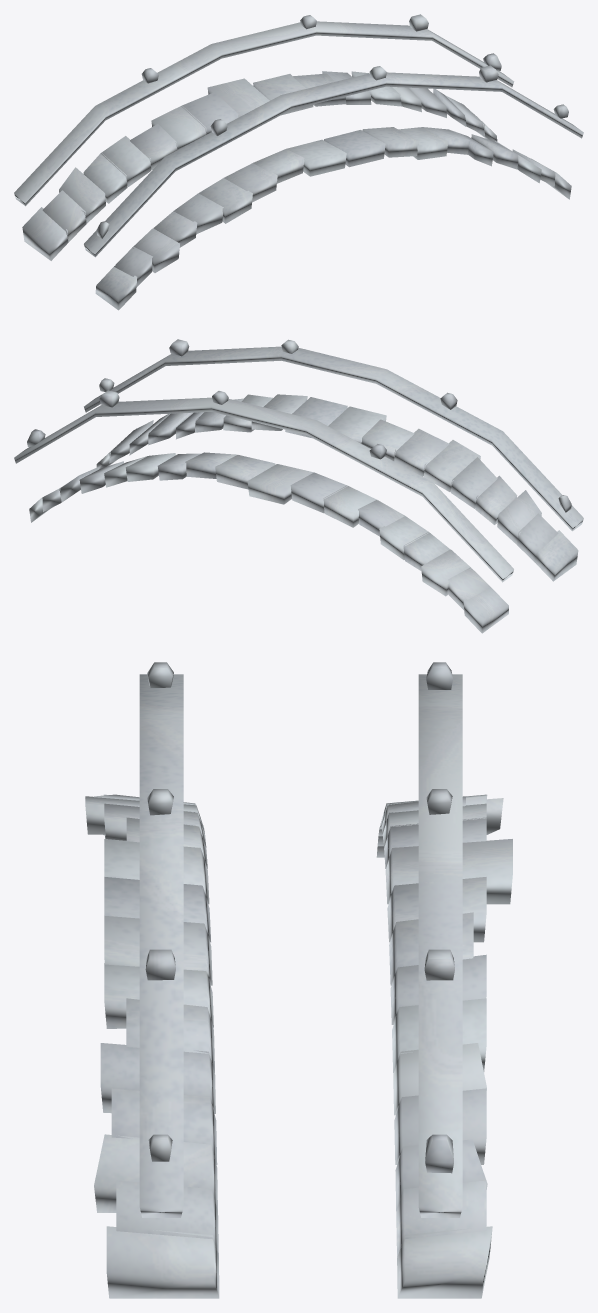
The model's file is Bridge_1_Snow.fbx.
3 renders of one model, top to bottom at view 1: azimuth 30°, elevation 25°; view 2: azimuth 150°, elevation 25°; view 3: azimuth 270°, elevation 25°, orthographic. The views are drawn at different scales.
Parts seen in each view (by area): view 1: Bridge_1_Snow; view 2: Bridge_1_Snow; view 3: Bridge_1_Snow.
Boxes of the visible parts, x1=… form: Bridge_1_Snow: x1=14, y1=14, x2=583, y2=310; Bridge_1_Snow: x1=14, y1=339, x2=583, y2=633; Bridge_1_Snow: x1=85, y1=662, x2=512, y2=1298.
Bounding box in the file's own units: 695 × 225 × 263.
